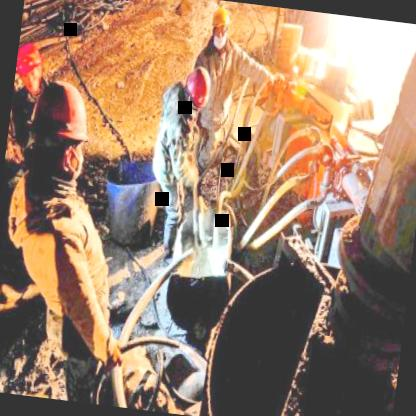helmet: (20, 75, 96, 186), (13, 38, 49, 96), (206, 1, 234, 52), (181, 67, 212, 112)
